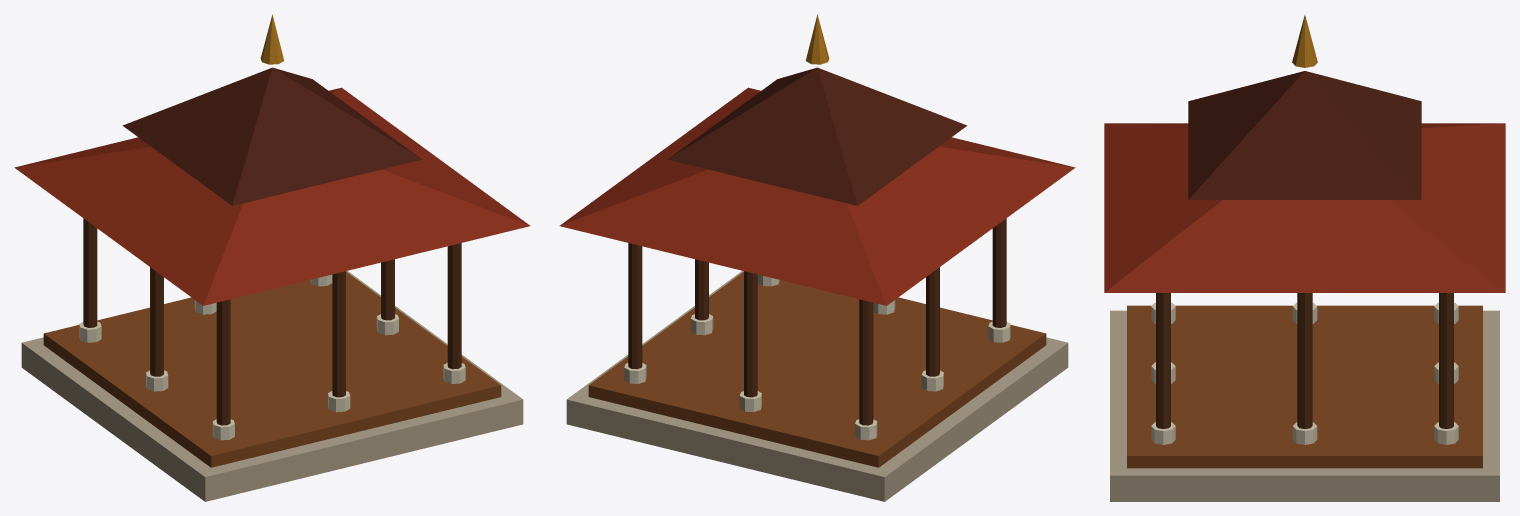
Rendered from Pendopo.obj.
3 views of the same model, side by side, from view 1: azimuth 30°, elevation 25°; view 2: azimuth 150°, elevation 25°; view 3: azimuth 270°, elevation 25° (orthographic). The views are drawn at different scales.
Parts seen in each view (by area): view 1: FLOOR, ROOF_LOWER, ROOF_UPPER, PLATFORM, POST_0, POST_2, POST_1, POST_5, POST_3, POST_4, FINIAL; view 2: FLOOR, ROOF_LOWER, ROOF_UPPER, PLATFORM, POST_5, POST_7, POST_6, POST_0, POST_3, POST_4, FINIAL; view 3: FLOOR, ROOF_LOWER, ROOF_UPPER, PLATFORM, POST_4, POST_2, POST_7, FINIAL, POST_BASE_4.
Boxes of the visible parts, box(x1,y1,x2,y2) form: FLOOR: box(43, 272, 501, 467); ROOF_LOWER: box(14, 87, 530, 305); ROOF_UPPER: box(122, 67, 421, 205); PLATFORM: box(21, 271, 523, 501); POST_0: box(216, 299, 230, 425); POST_2: box(447, 243, 461, 369); POST_1: box(332, 271, 345, 397); POST_5: box(83, 218, 97, 327); POST_3: box(150, 267, 163, 376); POST_4: box(381, 259, 394, 320); FINIAL: box(260, 14, 284, 64); FLOOR: box(588, 272, 1046, 467); ROOF_LOWER: box(559, 87, 1075, 305); ROOF_UPPER: box(668, 67, 967, 205); PLATFORM: box(566, 271, 1068, 501); POST_5: box(859, 299, 873, 425); POST_7: box(628, 243, 642, 369); POST_6: box(744, 271, 757, 397); POST_0: box(992, 218, 1006, 327); POST_3: box(926, 267, 939, 376); POST_4: box(695, 259, 708, 320); FINIAL: box(805, 14, 829, 64); FLOOR: box(1127, 305, 1482, 468); ROOF_LOWER: box(1104, 123, 1505, 292); ROOF_UPPER: box(1188, 71, 1421, 199); PLATFORM: box(1110, 310, 1499, 501); POST_4: box(1297, 293, 1312, 428); POST_2: box(1156, 293, 1170, 428); POST_7: box(1439, 293, 1453, 428); FINIAL: box(1292, 15, 1317, 67); POST_BASE_4: box(1292, 422, 1317, 444).
Size of the model in its own units: 5.25 by 5.85 by 5.25.
